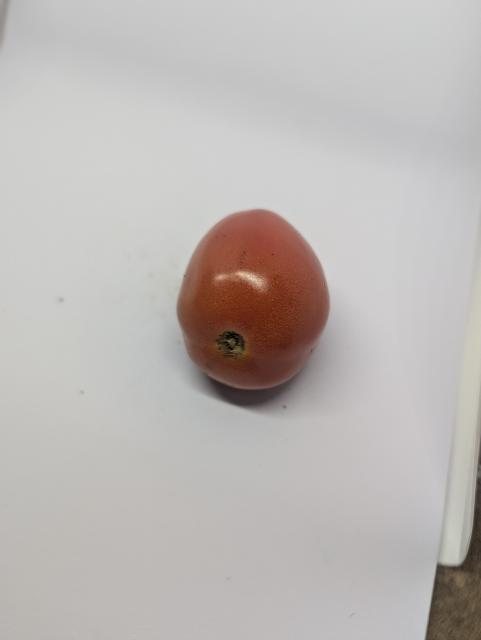red: (171, 204, 335, 413)
